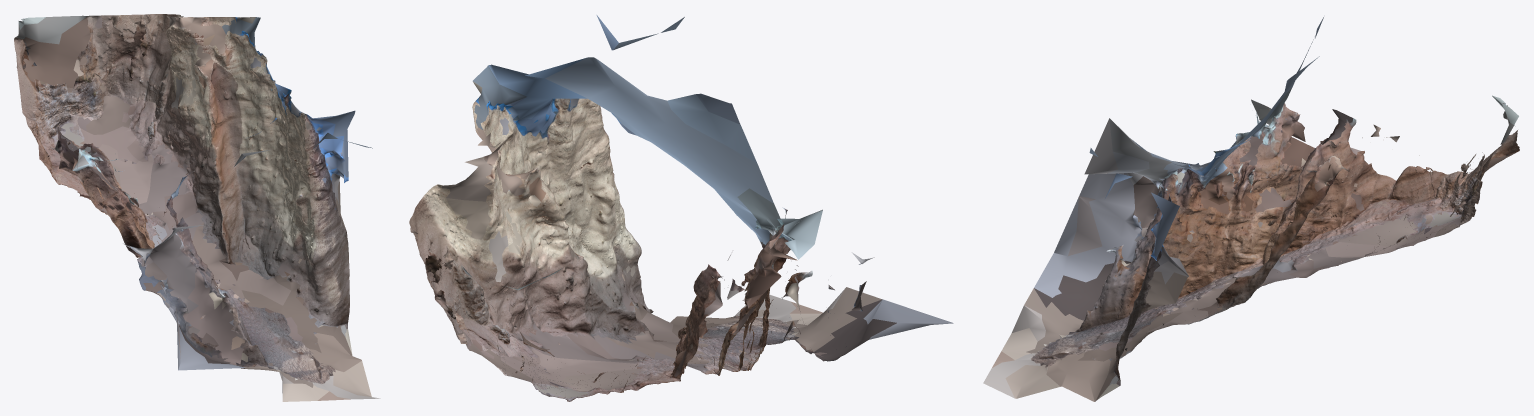
3 views of the same model, side by side, from view 1: azimuth 30°, elevation 25°; view 2: azimuth 150°, elevation 25°; view 3: azimuth 270°, elevation 25° (orthographic). The views are drawn at different scales.
Visible parts, largest first — view 1: Mesh_0_Part_0; view 2: Mesh_0_Part_0; view 3: Mesh_0_Part_0.
Boxes of the visible parts, x1,y1,x2,y2 form: Mesh_0_Part_0: (14, 14, 380, 401); Mesh_0_Part_0: (409, 15, 953, 401); Mesh_0_Part_0: (983, 17, 1519, 401).
Size of the model in its own units: 14.05 by 17.17 by 27.15.
Materials: 1 (1 with a texture image).
